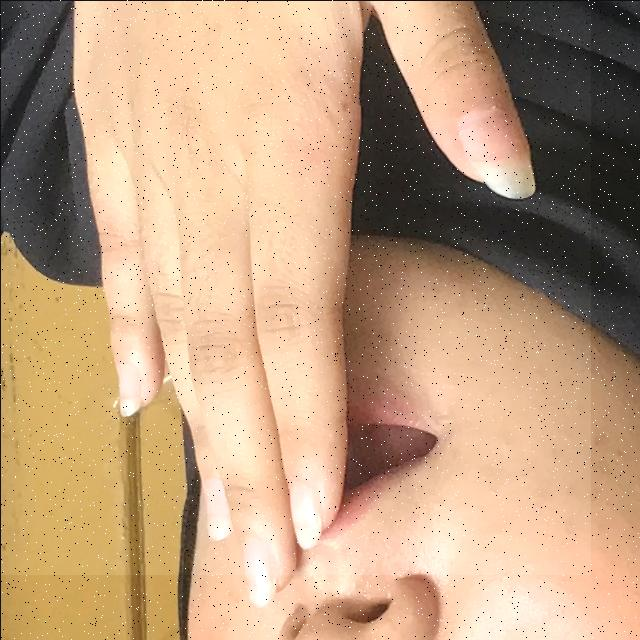ngantuk: (0, 0, 590, 574)
